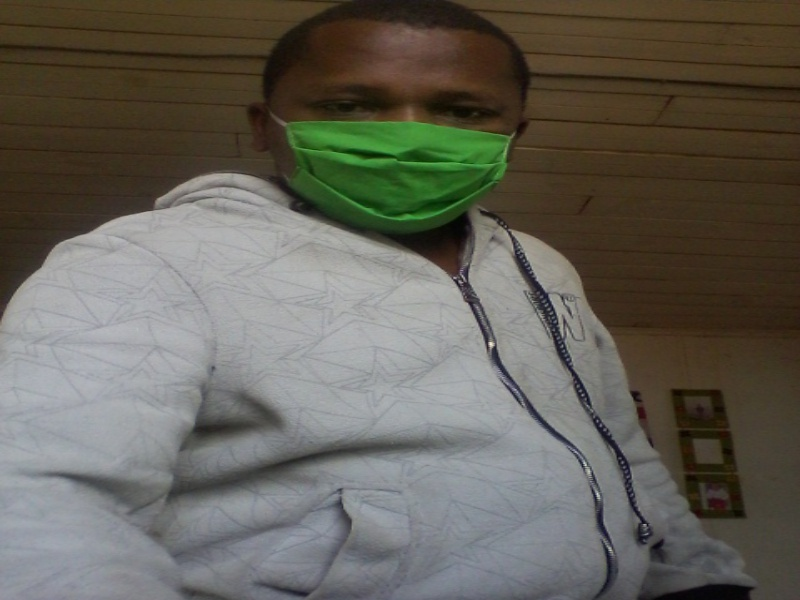ManaoArotava: (259, 8, 548, 252)
